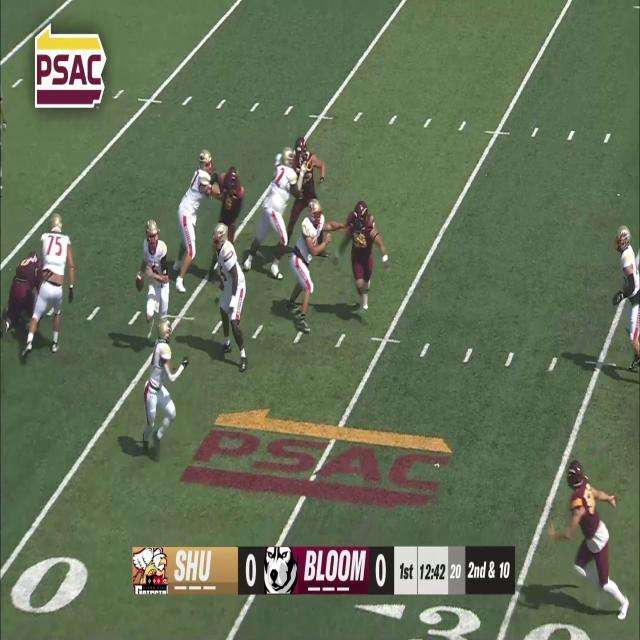football: (134, 272, 145, 292)
